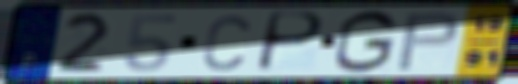2: (54, 11, 116, 76)
5: (122, 13, 179, 74)
C: (200, 13, 253, 72)
G: (331, 8, 401, 75)
P: (253, 10, 326, 75), (393, 10, 462, 72)
